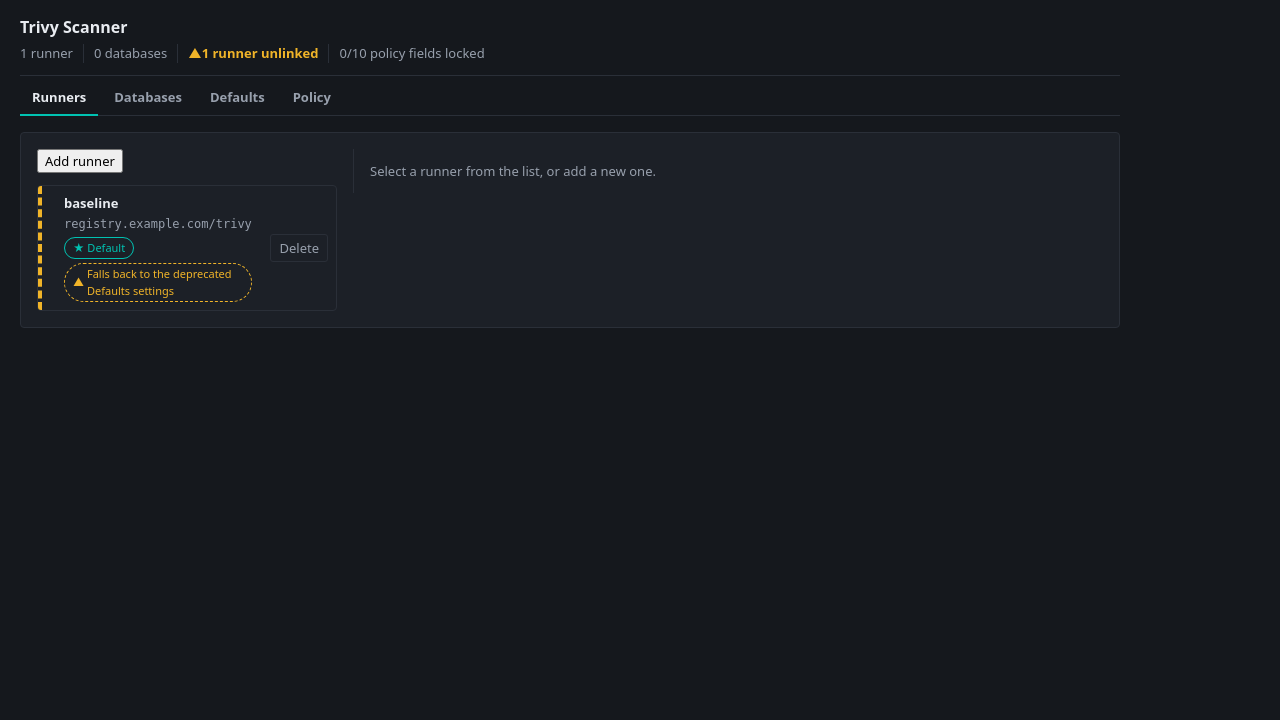
Test: the host cannot recolour the hub through `body` › colours every rendered element from inside the hub, never from `body`
Expected: the text "baseline" is shown, [64,194,118,212]
Click the button with aria-label "Edit baseline": (158, 248) [54,186,262,310]
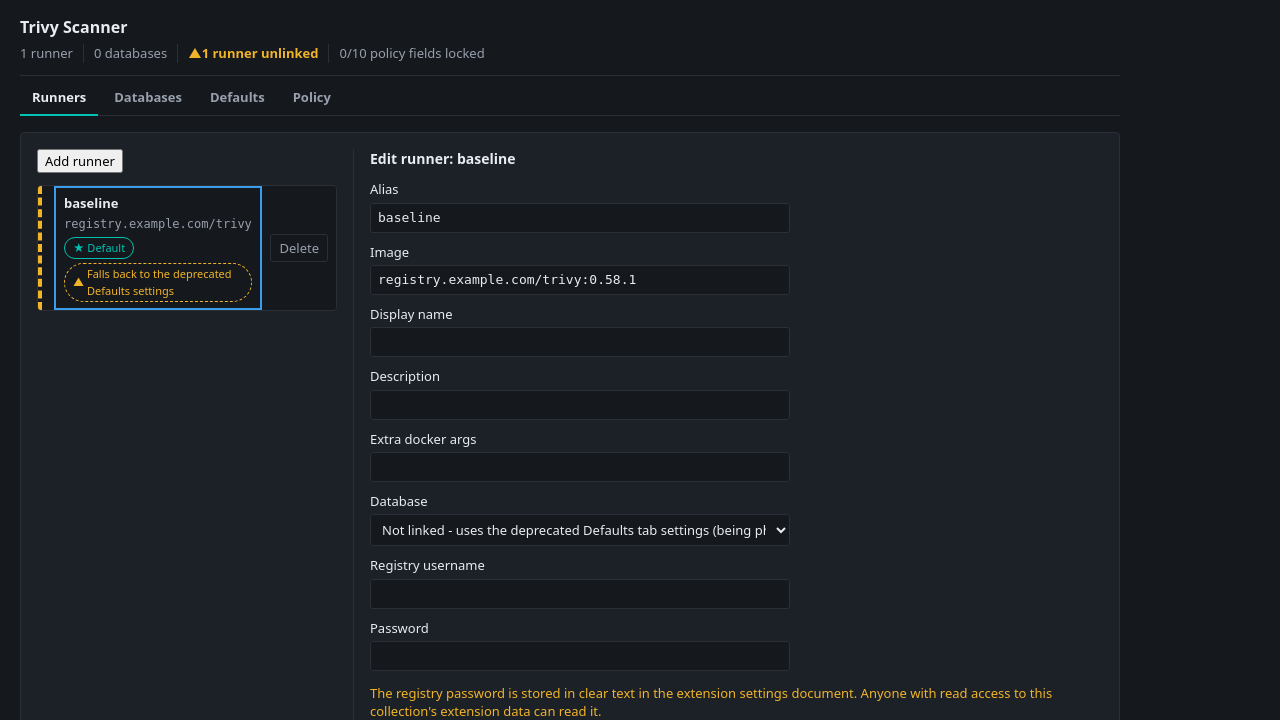
Result: the heading "Edit runner: baseline" is shown at [370,149,516,168]
